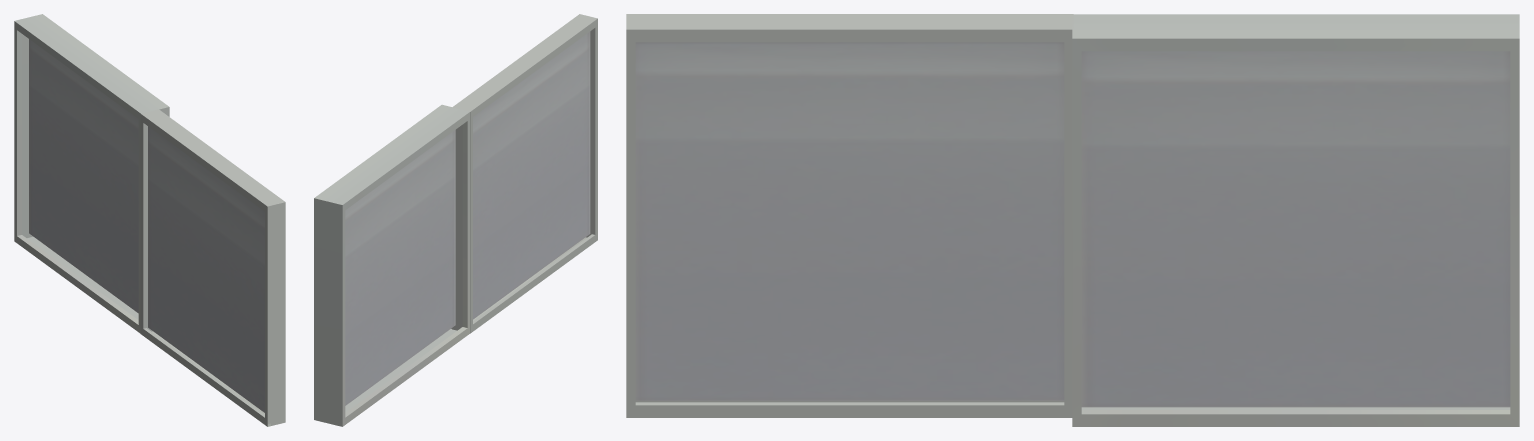
Rendered from windows01.fbx.
3 views of the same model, side by side, from view 1: azimuth 30°, elevation 25°; view 2: azimuth 150°, elevation 25°; view 3: azimuth 270°, elevation 25° (orthographic). The views are drawn at different scales.
Visible parts, largest first — view 1: Cube.002; view 2: Cube.002; view 3: Cube.002.
Boxes of the visible parts, left/top/right/bottom form: Cube.002: left=14, top=14, right=285, bottom=426; Cube.002: left=314, top=14, right=597, bottom=426; Cube.002: left=626, top=14, right=1519, bottom=426.
Size of the model in its own units: 78.05 by 575 by 1198.
4 materials, 4 textured.
